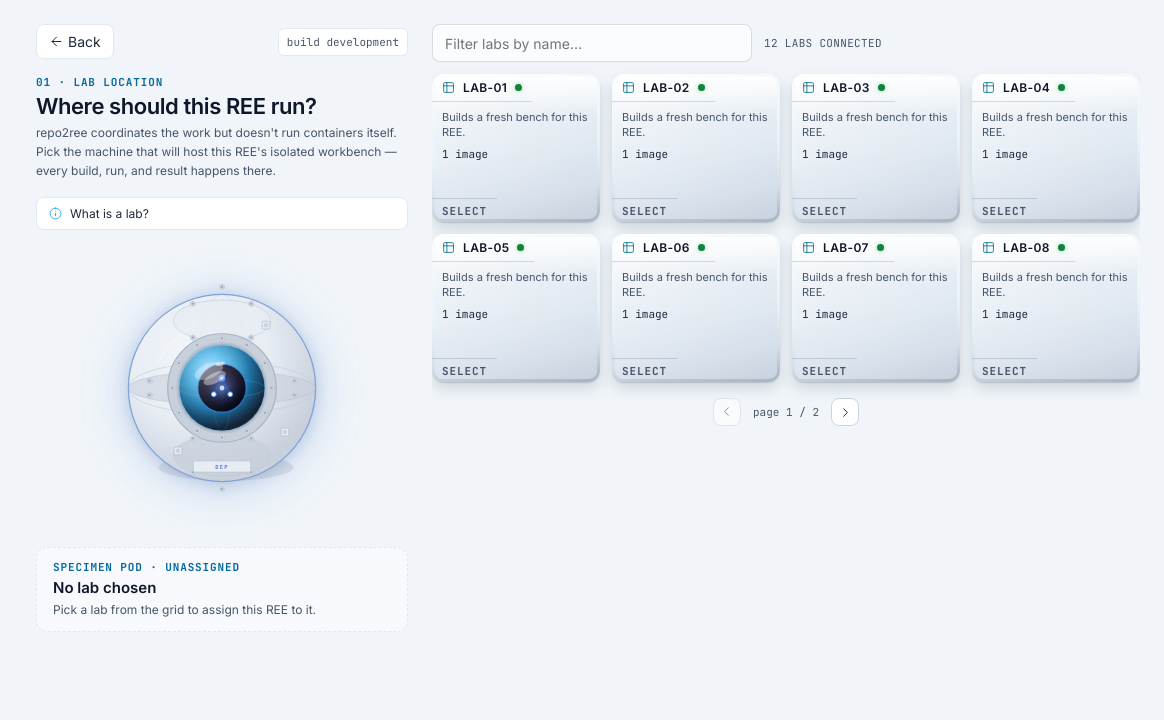
Scenario: choosing a lab › filters the fleet down and says what it is showing
Expected: the text "12 labs connected" is shown, [764, 36, 882, 50]
Type "lab-07" into the search field labelled "Filter labs" at coordinates (592, 43), box [432, 24, 752, 62]
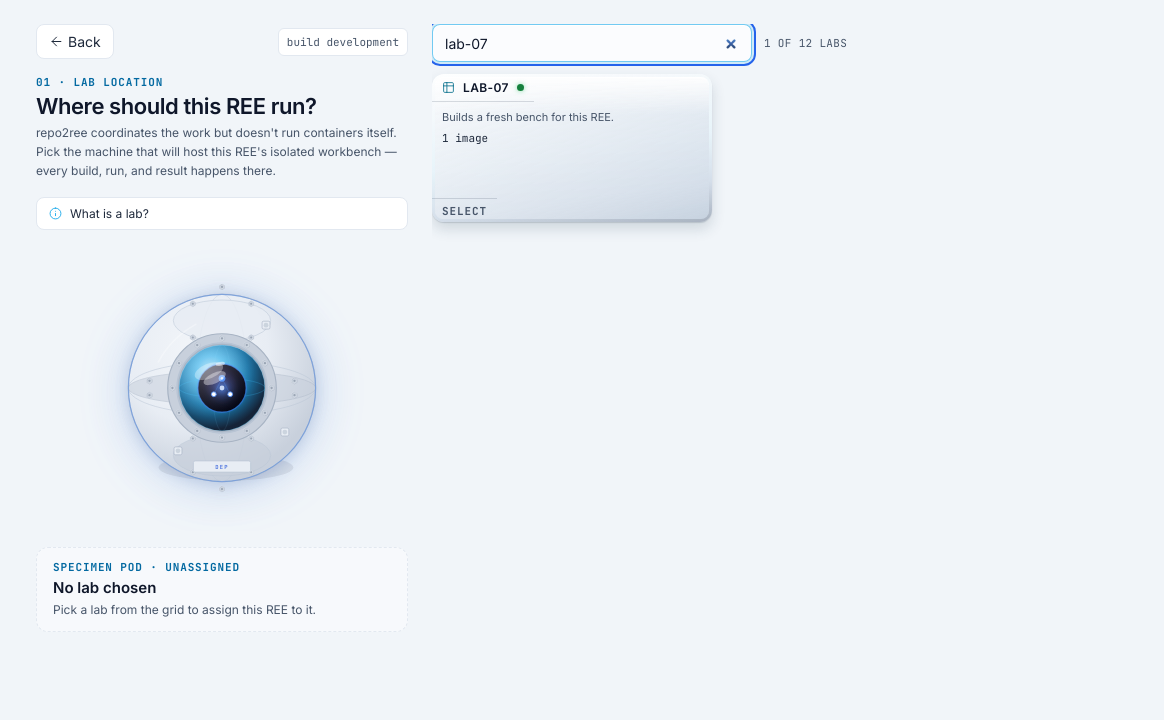
Now the text "1 of 12 labs" is shown, box [764, 36, 847, 50]
Now the number of buttons named "available" is 1, box [432, 74, 712, 222]
